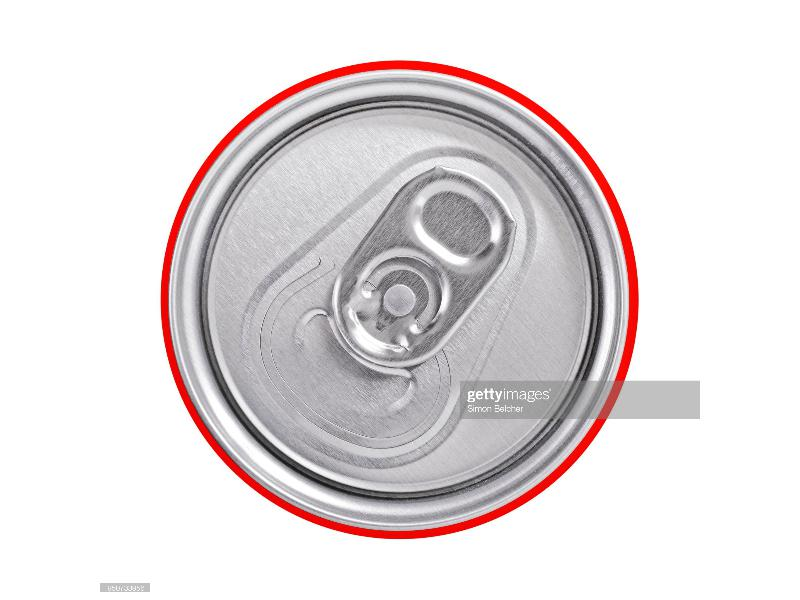can: (155, 56, 648, 545)
